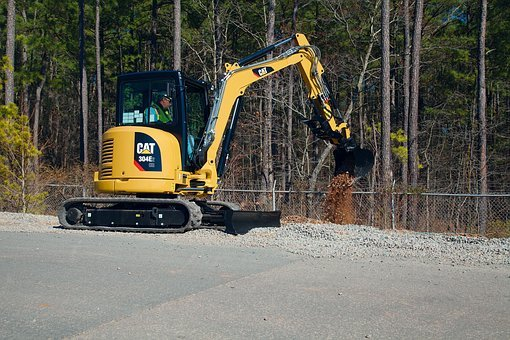excavator: (54, 30, 377, 242)
